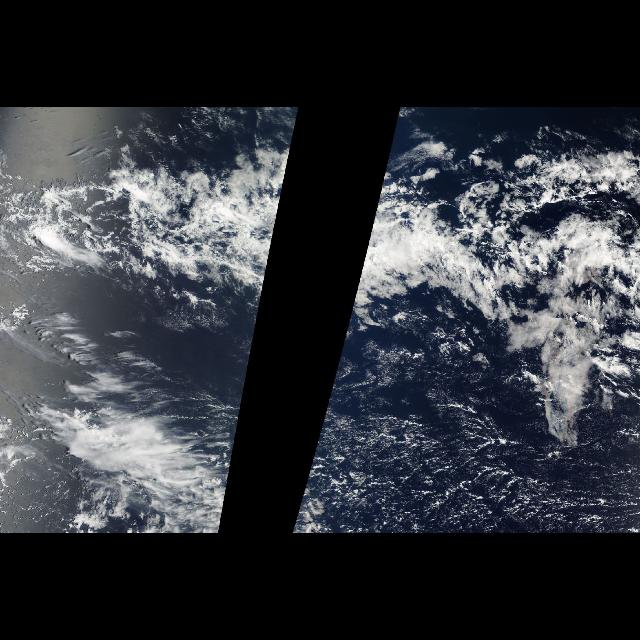Gravel: (290, 342, 636, 532), (245, 344, 253, 384)
